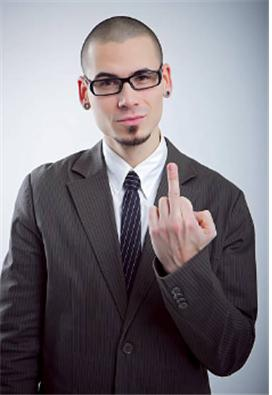insulting_gesture: (148, 160, 217, 275)
